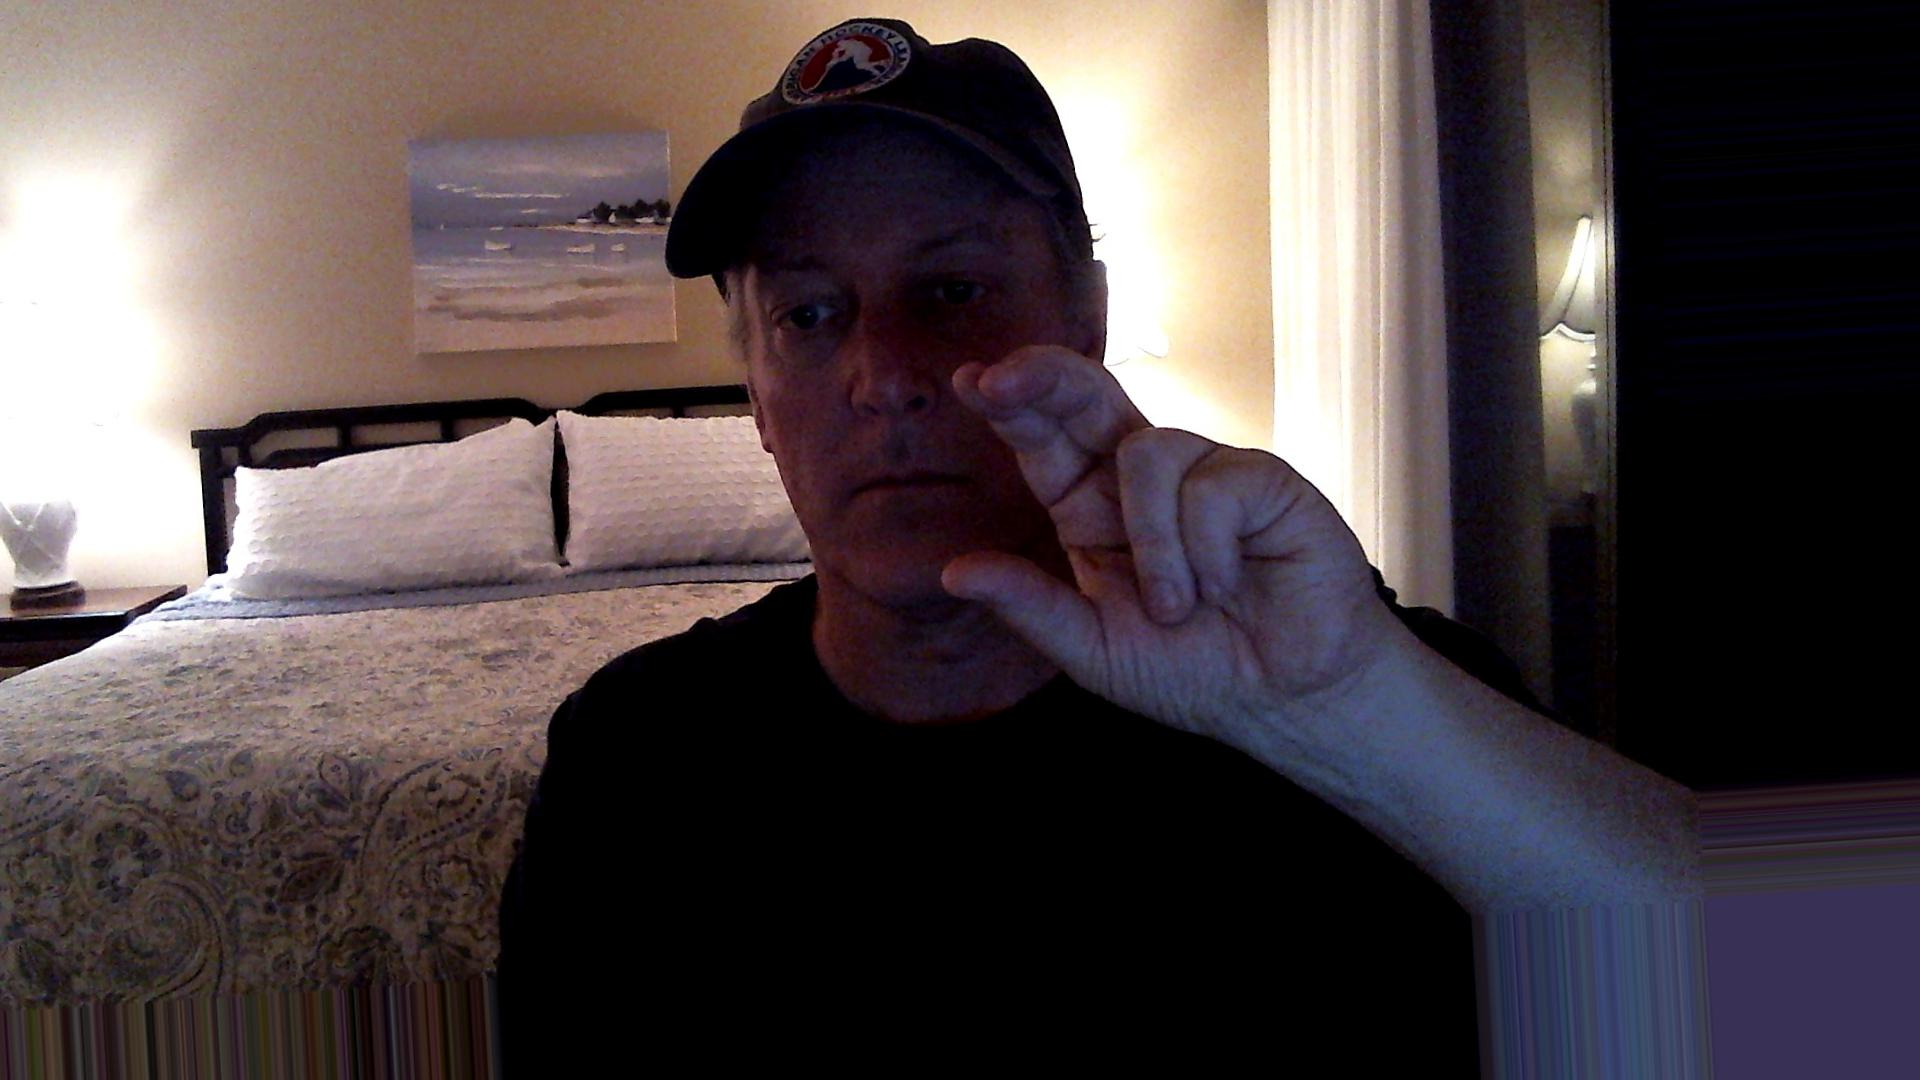No: (897, 324, 1466, 786)
